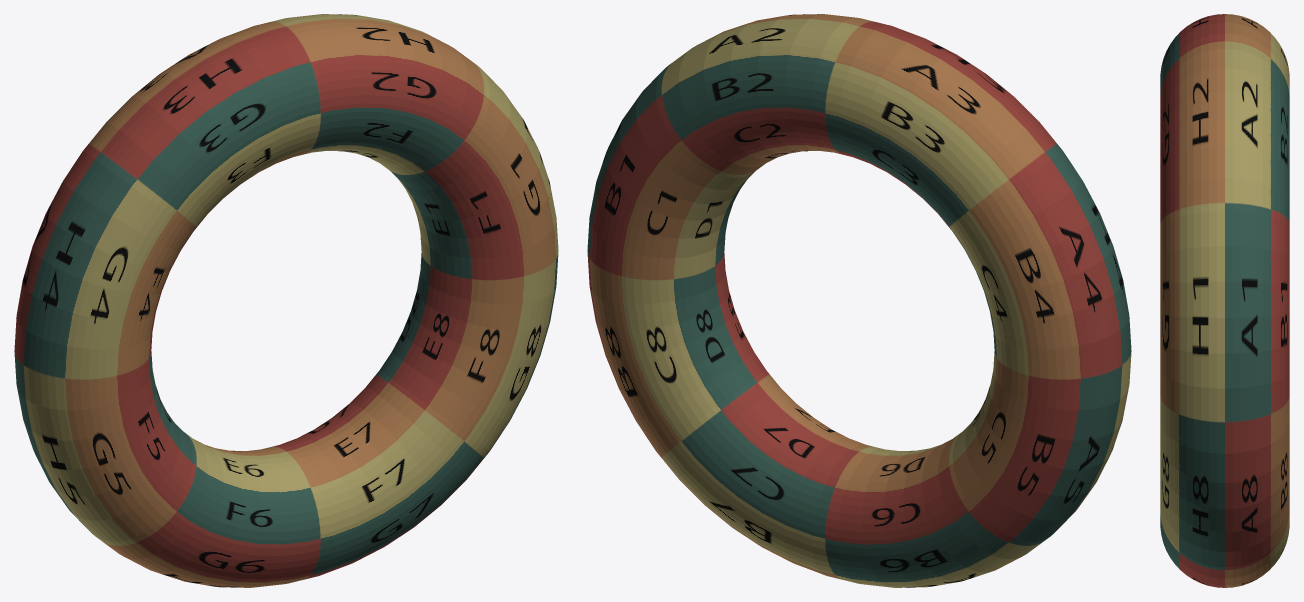
Rendered from texture_torus_R20_r18.glb.
3 renders of one model, left to right at view 1: azimuth 30°, elevation 25°; view 2: azimuth 150°, elevation 25°; view 3: azimuth 270°, elevation 25°, orthographic. The views are drawn at different scales.
Visible parts, largest first — view 1: world; view 2: world; view 3: world.
Part boxes in pixels (box(x1,y1,x2,y2)): world: box(14, 14, 558, 587); world: box(587, 14, 1131, 587); world: box(1160, 14, 1289, 587).
Bounding box in the file's own units: 30.13 × 30.07 × 6.79.
Materials: 1 (1 with a texture image).
